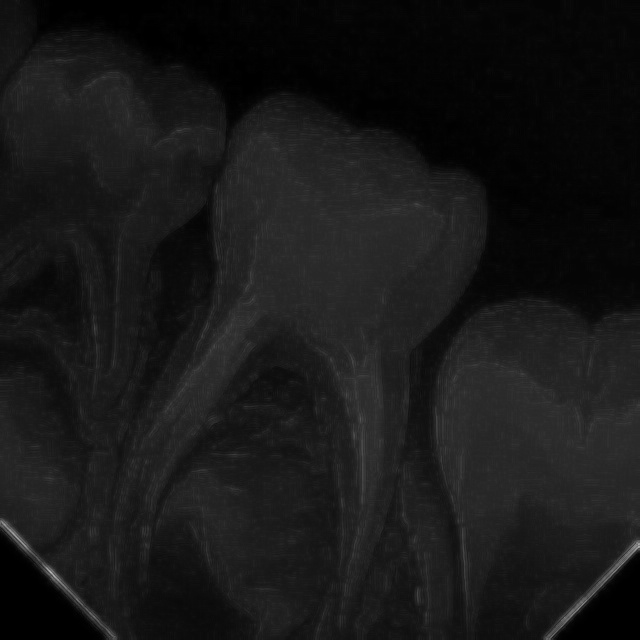Class 0- No endodontic treatment: (92, 70, 483, 624)
